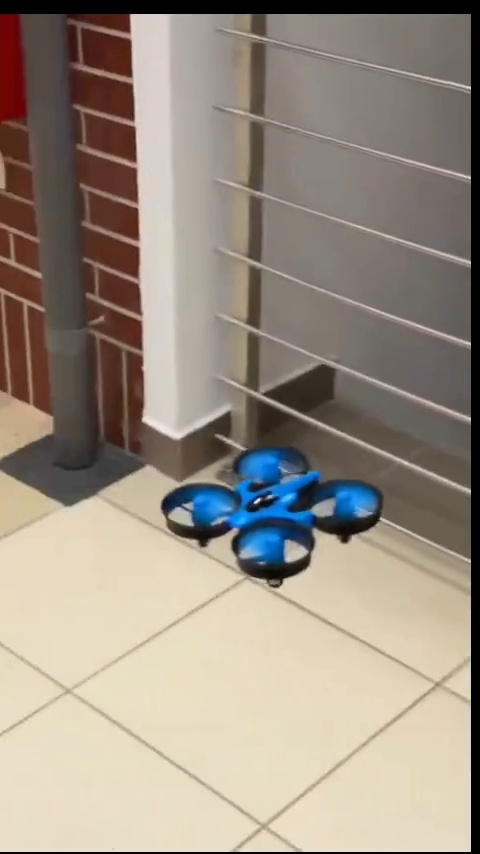drone: (163, 447, 389, 577)
